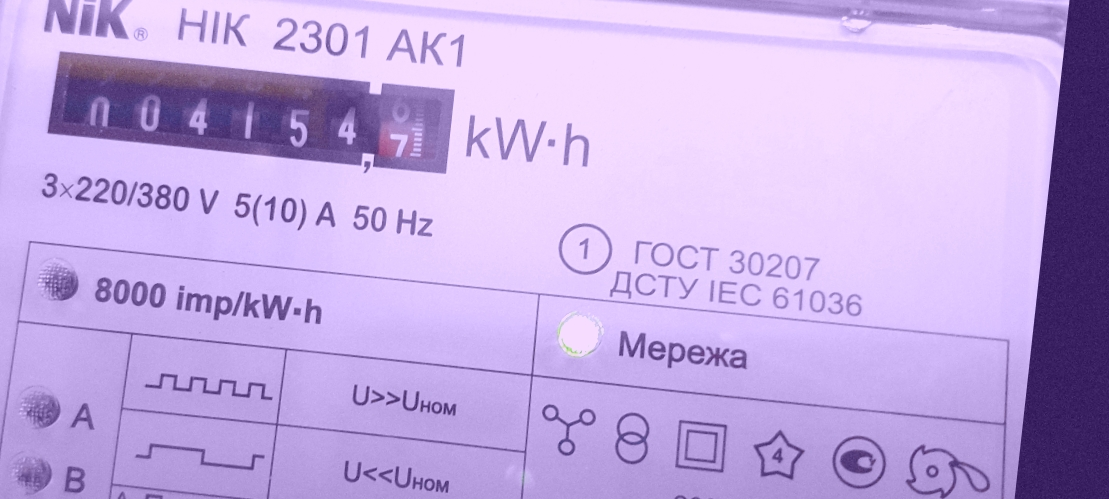0: (136, 90, 163, 133), (86, 90, 112, 127)
1: (240, 98, 257, 141)
4: (185, 93, 212, 137), (335, 101, 360, 147)
5: (284, 102, 313, 149)
6: (389, 92, 414, 124)
7: (385, 128, 409, 159)
screen: (30, 30, 473, 192)
